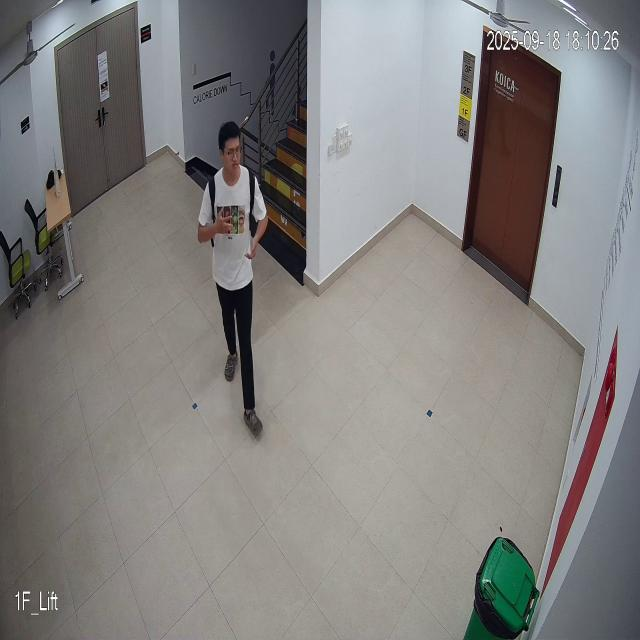face: (216, 120, 244, 182)
